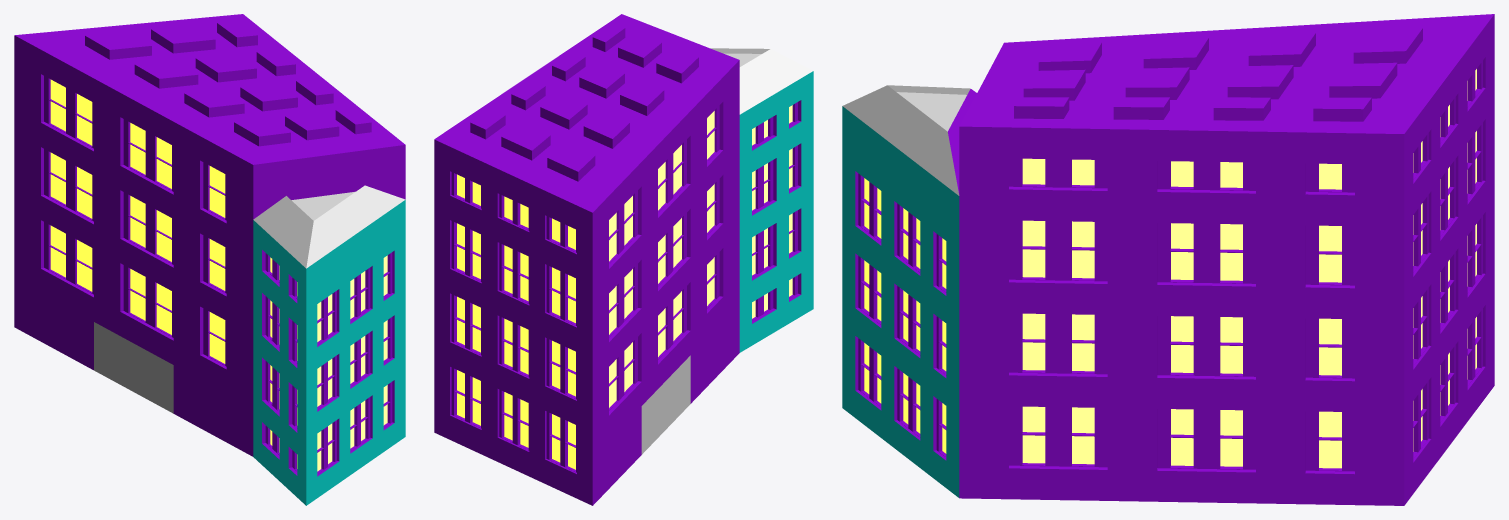
The model's file is camden_tower.fbx.
3 renders of one model, left to right at view 1: azimuth 30°, elevation 25°; view 2: azimuth 150°, elevation 25°; view 3: azimuth 270°, elevation 25°, orthographic. The views are drawn at different scales.
Parts seen in each view (by area): view 1: Plane; view 2: Plane; view 3: Plane.
Part boxes in pixels (x1,y1,x2,y2): Plane: (14,14,405,505); Plane: (434,14,813,505); Plane: (842,14,1494,505).
Bounding box in the file's own units: 277 × 413 × 636.
